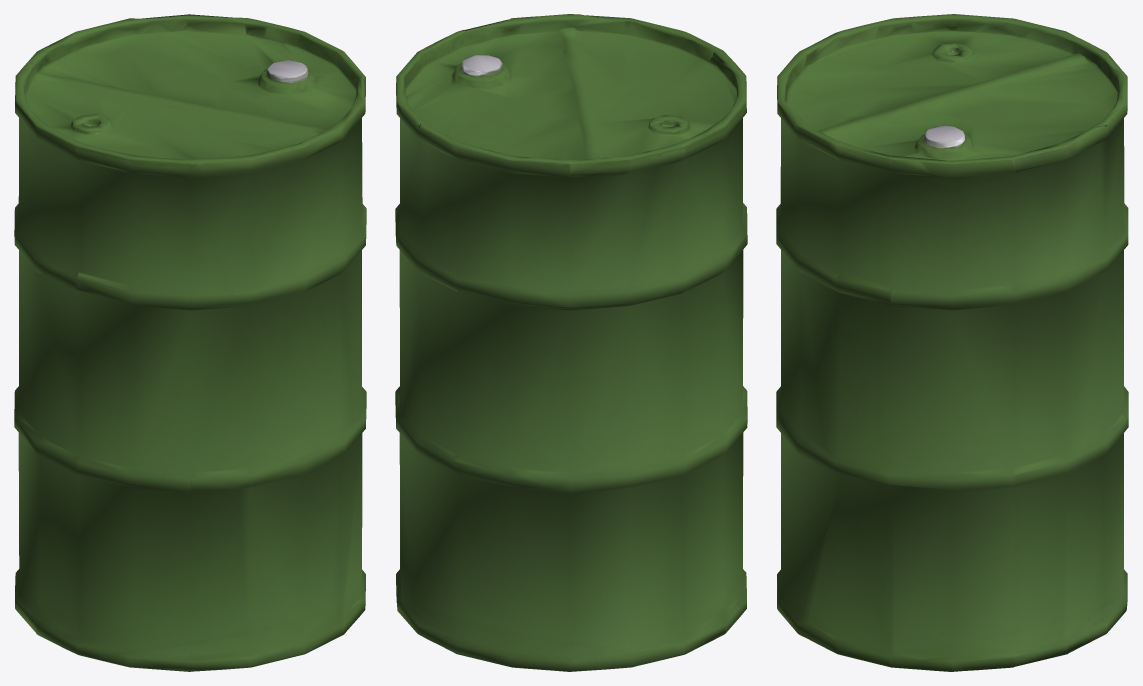
Rendered from Meshy_AI_Olive_Green_Drum_0520083647_texture.fbx.
The picture shows the model from 3 angles, left to right: view 1: azimuth 30°, elevation 25°; view 2: azimuth 150°, elevation 25°; view 3: azimuth 270°, elevation 25°; orthographic projection.
Parts seen in each view (by area): view 1: Mesh_0; view 2: Mesh_0; view 3: Mesh_0.
Boxes of the visible parts, x1,y1,x2,y2 form: Mesh_0: [14, 14, 366, 671]; Mesh_0: [395, 14, 747, 671]; Mesh_0: [776, 14, 1128, 671].
Size of the model in its own units: 122 by 191 by 120.
1 material, 1 textured.
